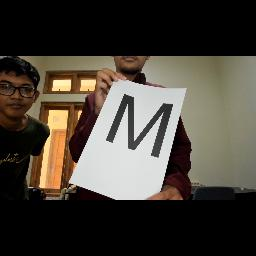m: (106, 92, 174, 164)
